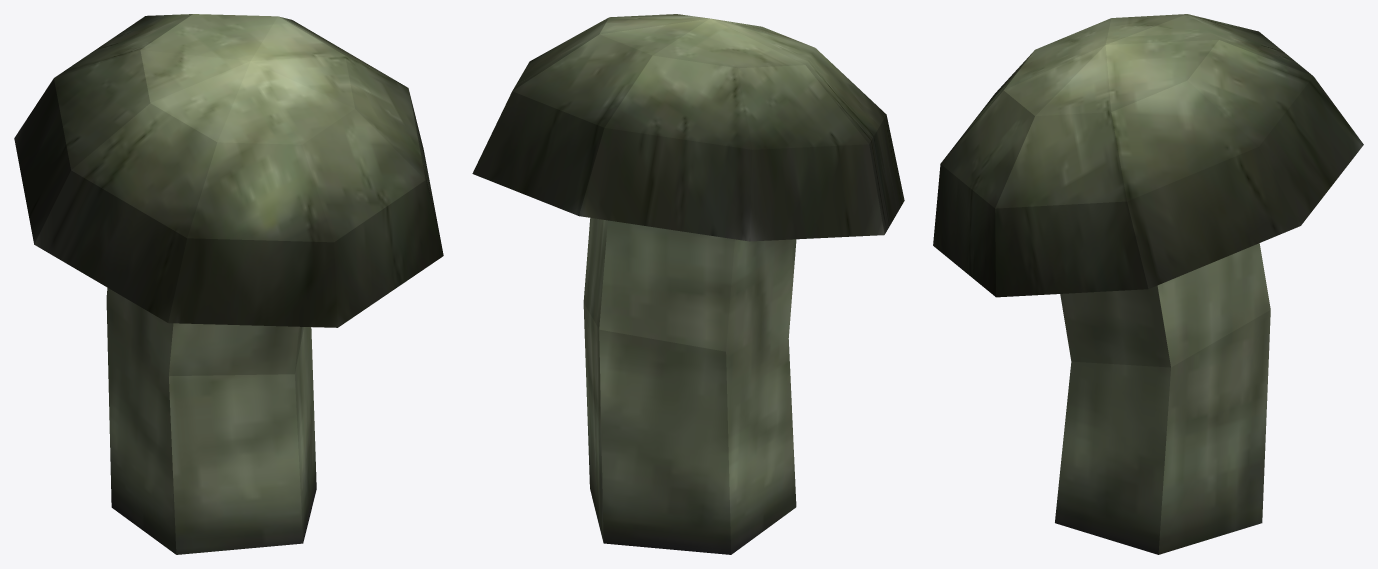
File: ITPL_MUSHROOM_01.glb
3 renders of one model, left to right at view 1: azimuth 30°, elevation 25°; view 2: azimuth 150°, elevation 25°; view 3: azimuth 270°, elevation 25°, orthographic.
Parts seen in each view (by area): view 1: ITPL_MUSHROOM_01; view 2: ITPL_MUSHROOM_01; view 3: ITPL_MUSHROOM_01.
Boxes of the visible parts, left/top/right/bottom form: ITPL_MUSHROOM_01: left=14, top=14, right=443, bottom=554; ITPL_MUSHROOM_01: left=472, top=14, right=904, bottom=554; ITPL_MUSHROOM_01: left=933, top=14, right=1363, bottom=554.
Size of the model in its own units: 0.2729 by 0.3182 by 0.2642.
1 material, 1 textured.
